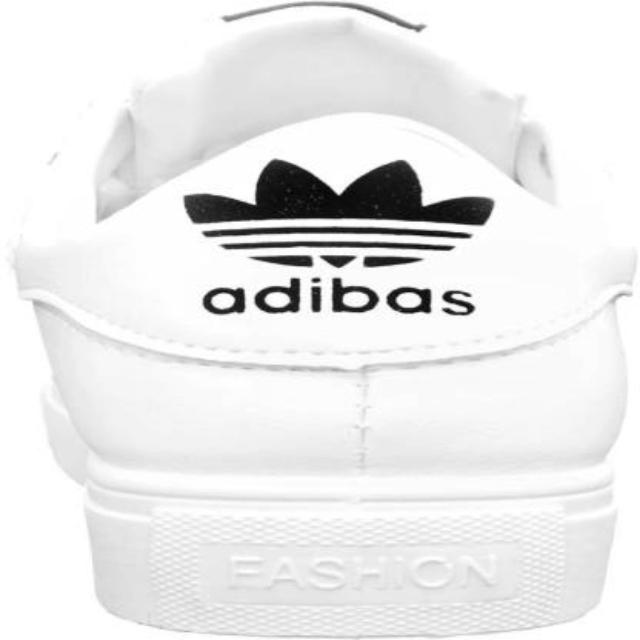ADIDAS_fake: (162, 145, 522, 337)
